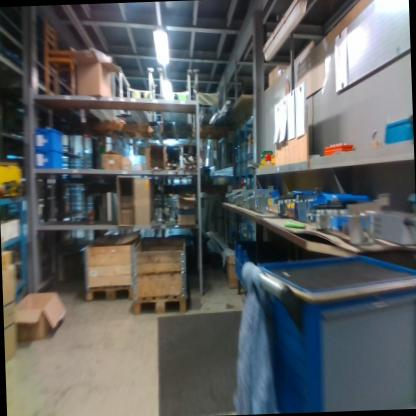pallet: (133, 294, 188, 316), (85, 284, 135, 304)
small_load_carrier: (241, 248, 282, 267), (35, 125, 64, 151), (34, 150, 64, 173), (234, 240, 241, 279)
